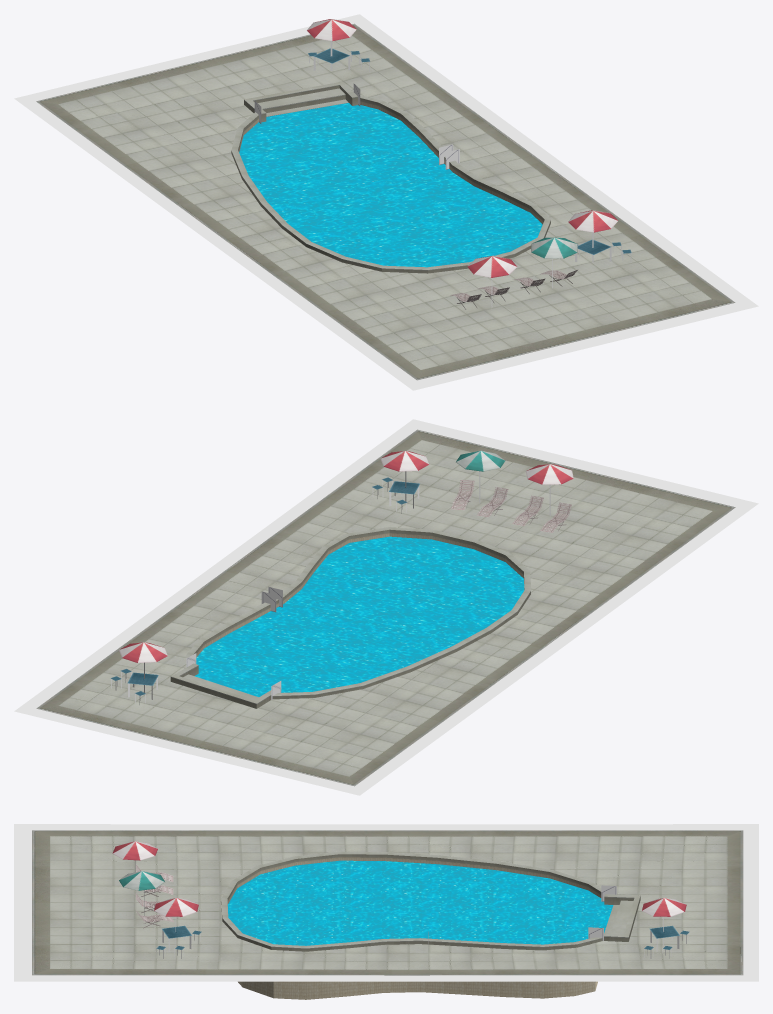
Rendered from Pool_01.fbx.
3 renders of one model, top to bottom at view 1: azimuth 30°, elevation 25°; view 2: azimuth 150°, elevation 25°; view 3: azimuth 270°, elevation 25°, orthographic. The views are drawn at different scales.
Parts seen in each view (by area): view 1: skp1B1, skp1B_1_1, skp1B_1_2; view 2: skp1B1, skp1B_1_2, skp1B_1_1; view 3: skp1B1, skp1B_1_1, skp1B_1_2.
Part boxes in pixels (x1,y1,x2,y2): skp1B1: [14, 14, 758, 390]; skp1B_1_1: [307, 19, 369, 63]; skp1B_1_2: [568, 210, 631, 254]; skp1B1: [14, 419, 758, 795]; skp1B_1_2: [372, 451, 429, 504]; skp1B_1_1: [110, 642, 167, 695]; skp1B1: [14, 824, 758, 999]; skp1B_1_1: [642, 898, 689, 949]; skp1B_1_2: [154, 898, 201, 949].
Size of the model in its own units: 2000 by 589 by 4000.
